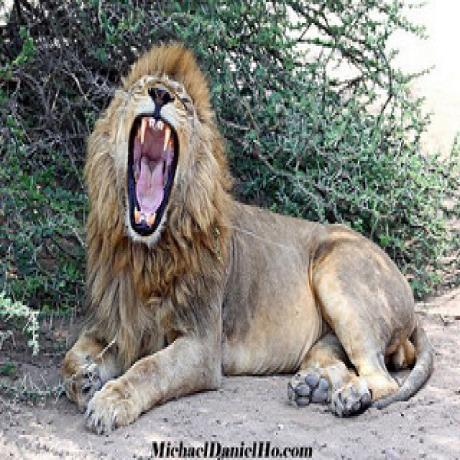Lion: (67, 31, 435, 426)
